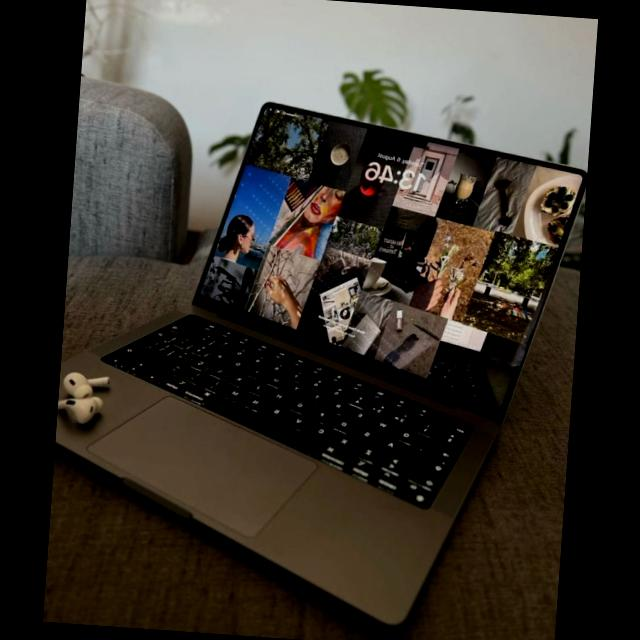laptop: (106, 87, 588, 640)
